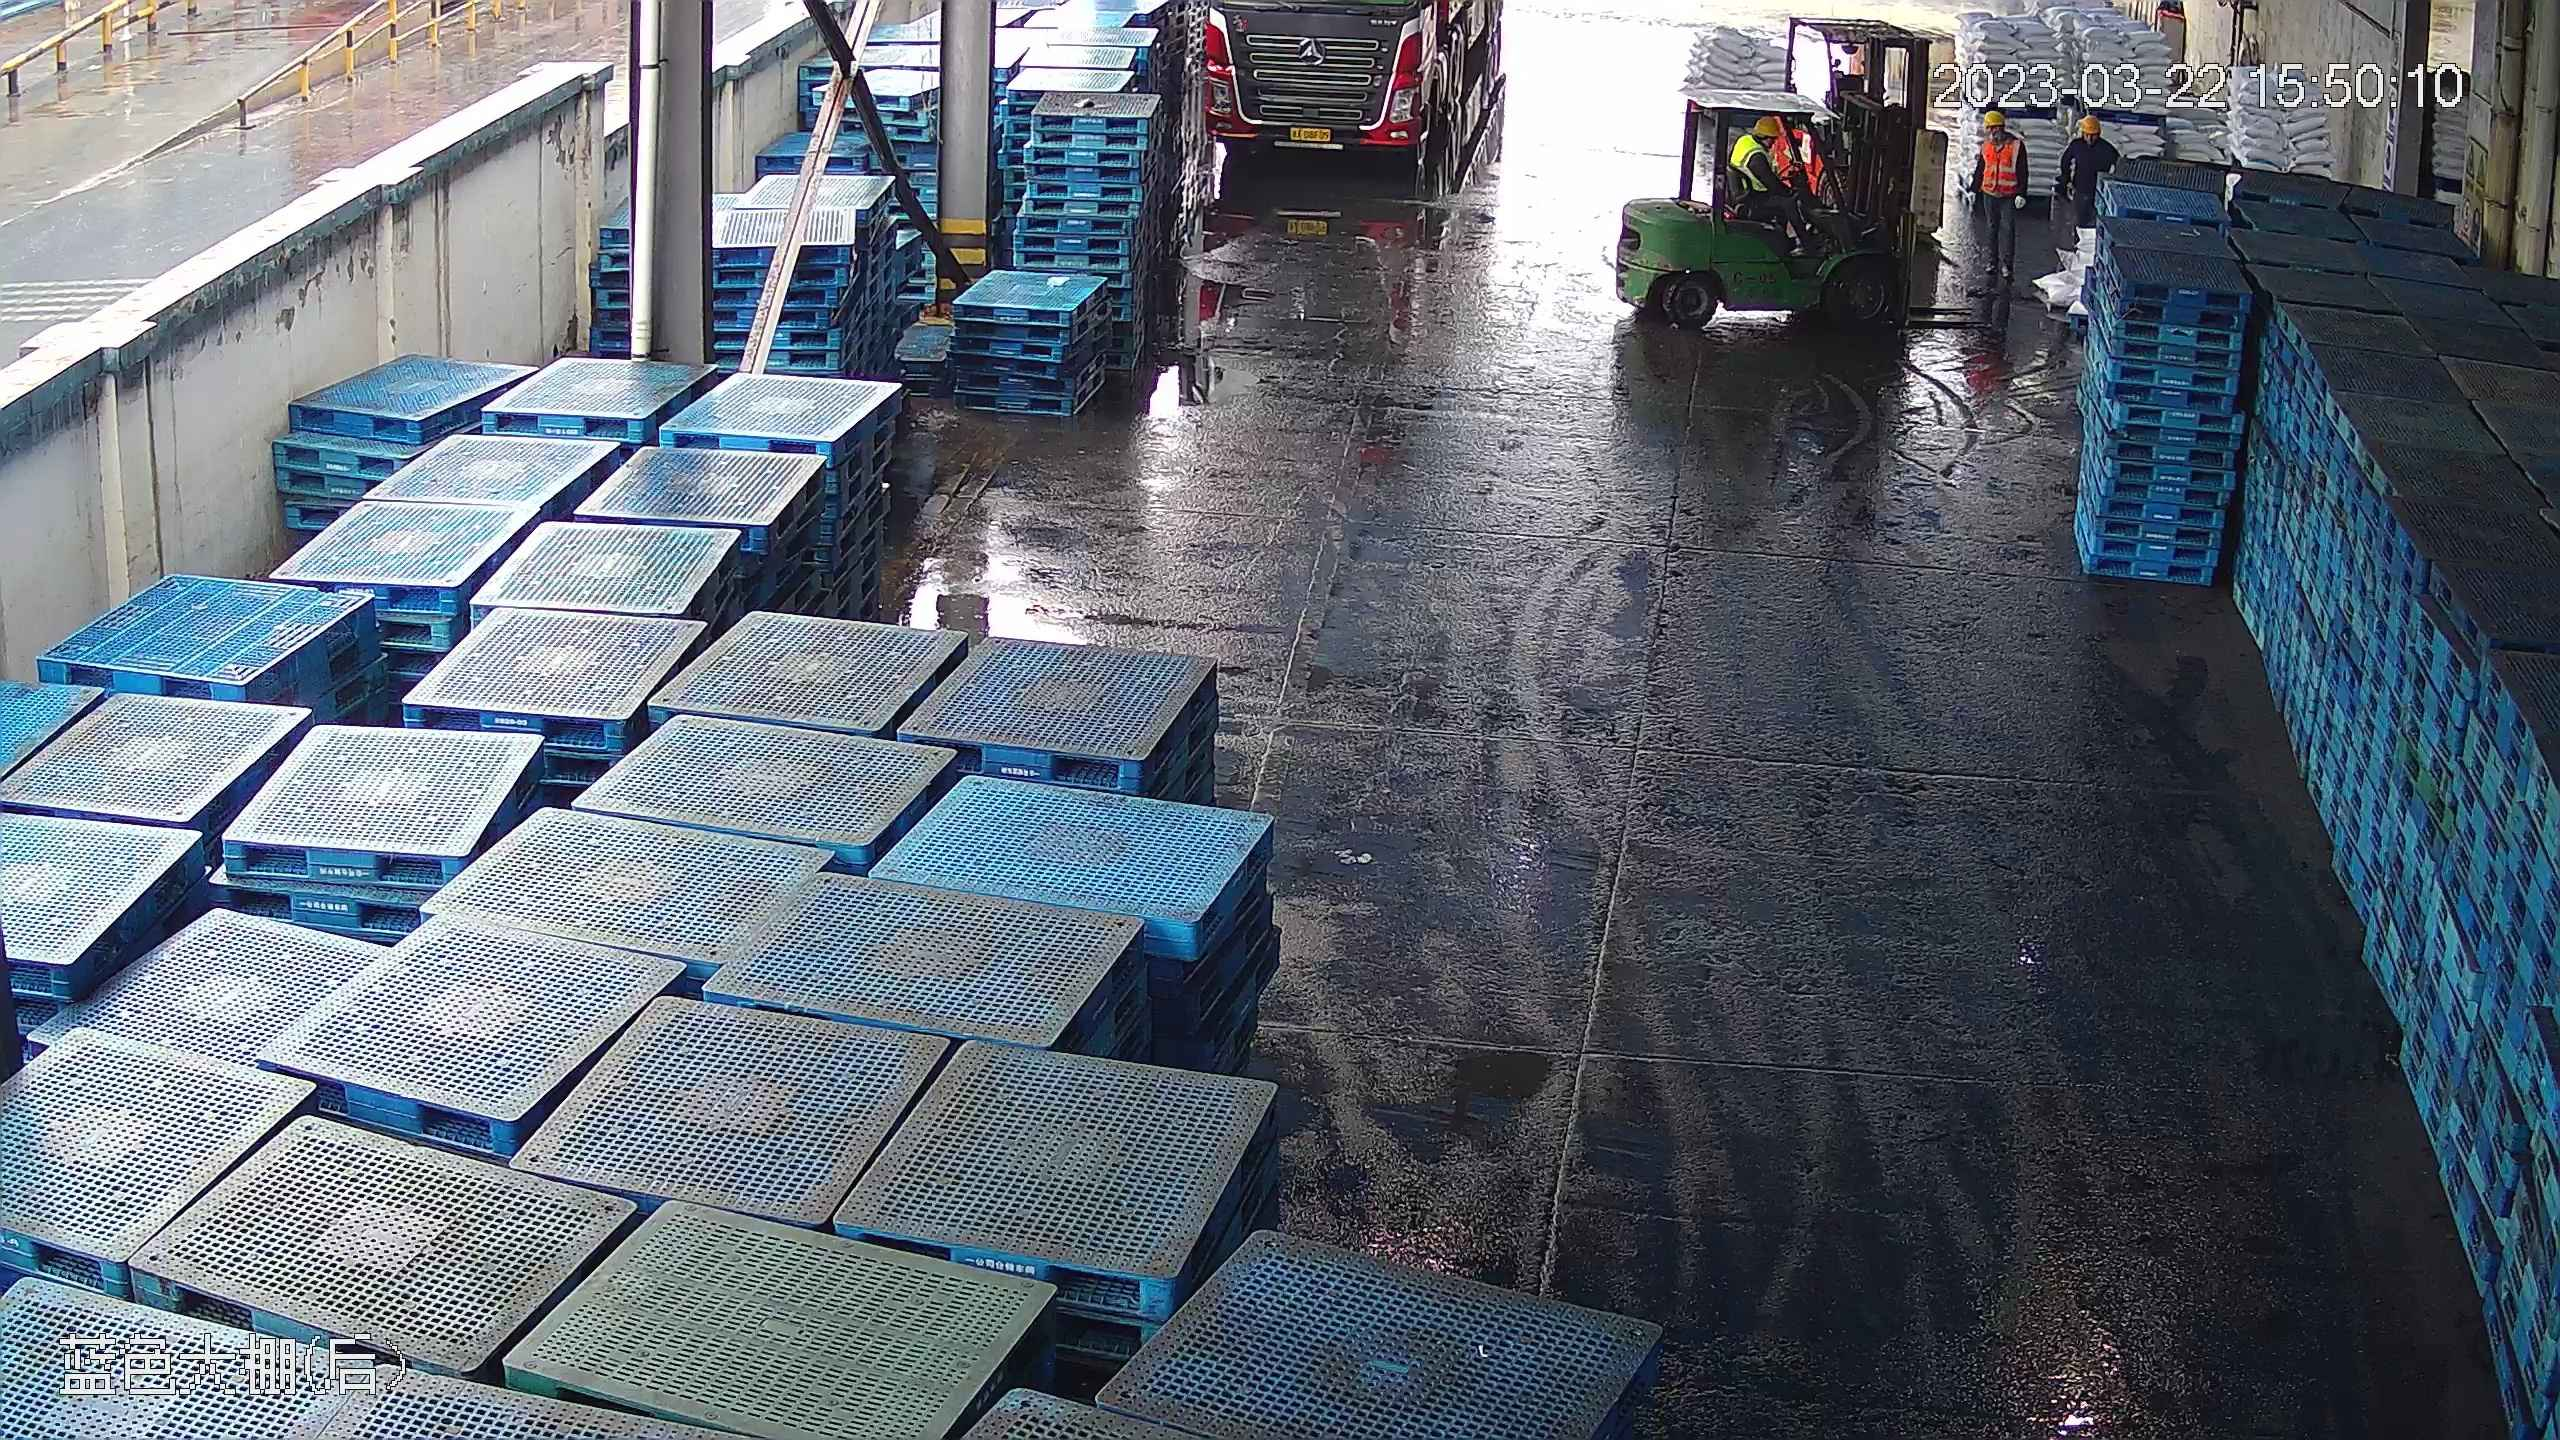head: (1734, 119, 1789, 179), (1973, 107, 2023, 166), (2064, 113, 2112, 164)
helmet: (1735, 118, 1777, 161), (1979, 108, 2010, 130), (2076, 114, 2101, 135)
people: (1731, 119, 1818, 242), (1967, 103, 2028, 279)
truck: (1194, 4, 1509, 176)
